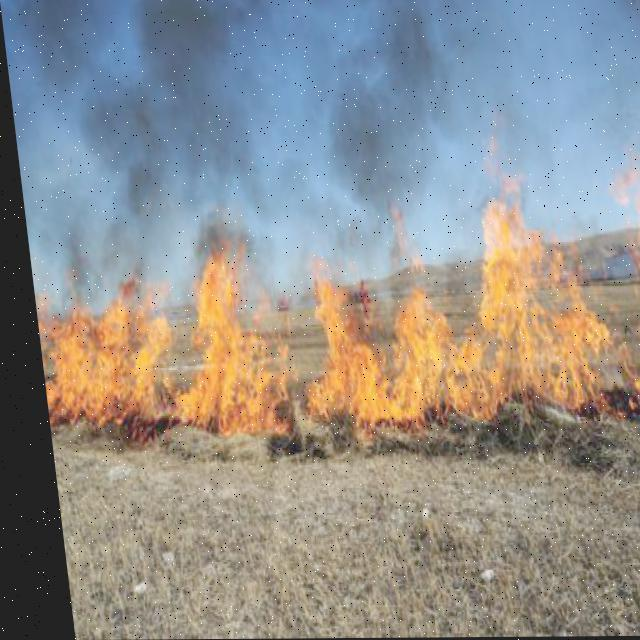Fire: (10, 111, 639, 441)
